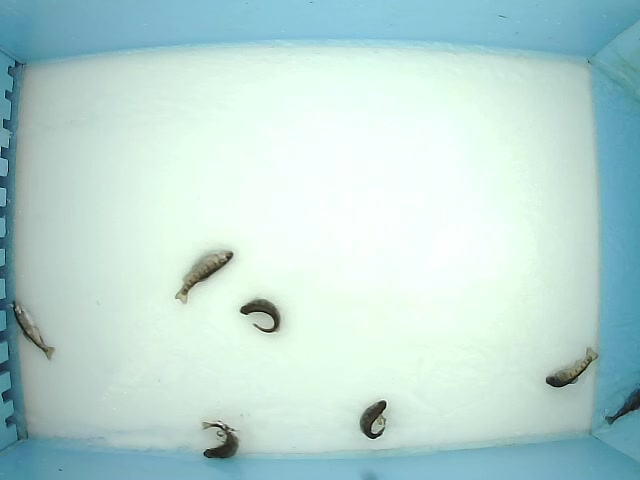fish: (170, 248, 234, 310), (9, 296, 61, 362), (542, 345, 600, 392), (199, 417, 244, 461), (240, 294, 284, 338), (356, 401, 391, 441)
